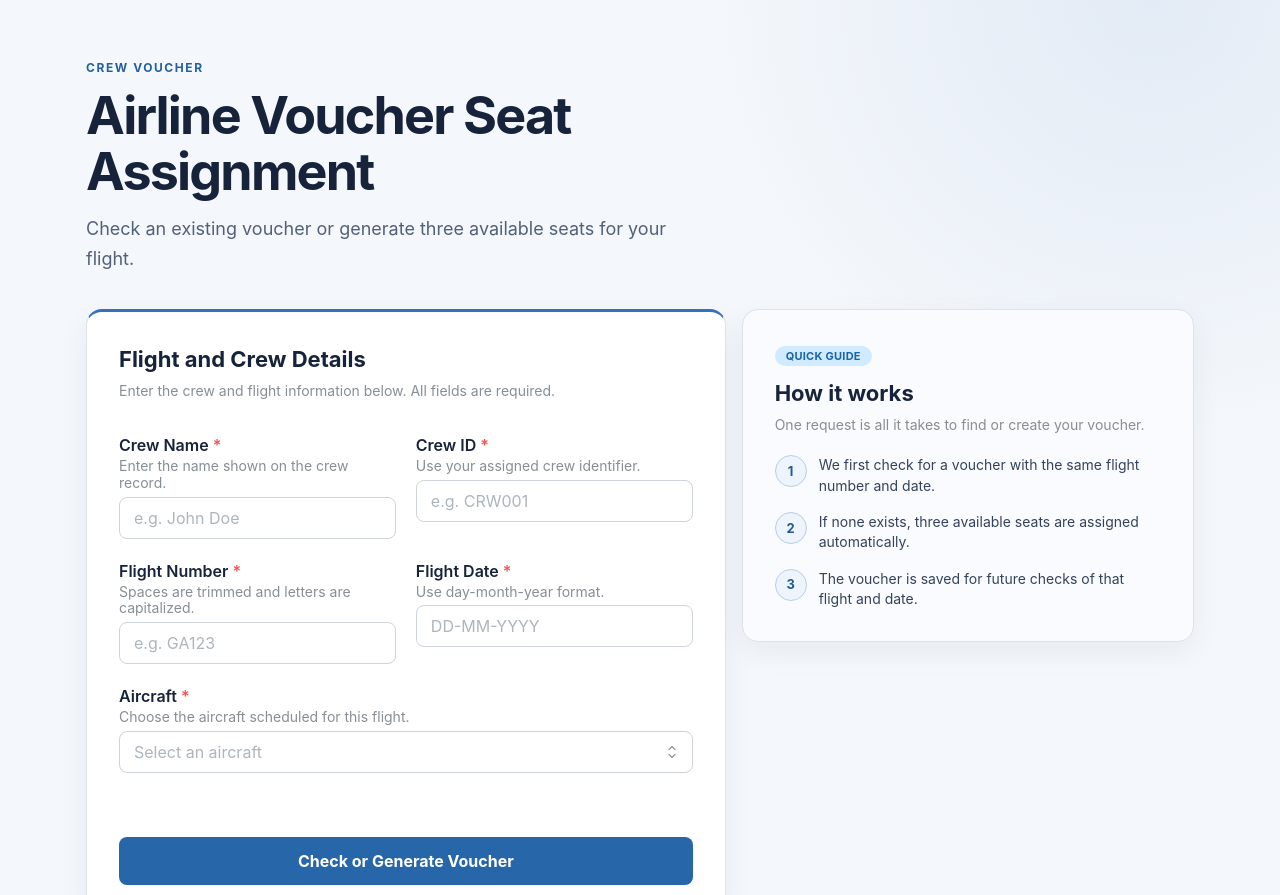
Test case: App › generates and displays a new voucher after an empty check
This screenshot has width=1280, height=895.
In the field labelled "Crew Name": (257,518) [119,497,396,539], type "Jane Doe"
In the field labelled "Crew ID": (554,501) [416,480,693,522], type "CRW001"
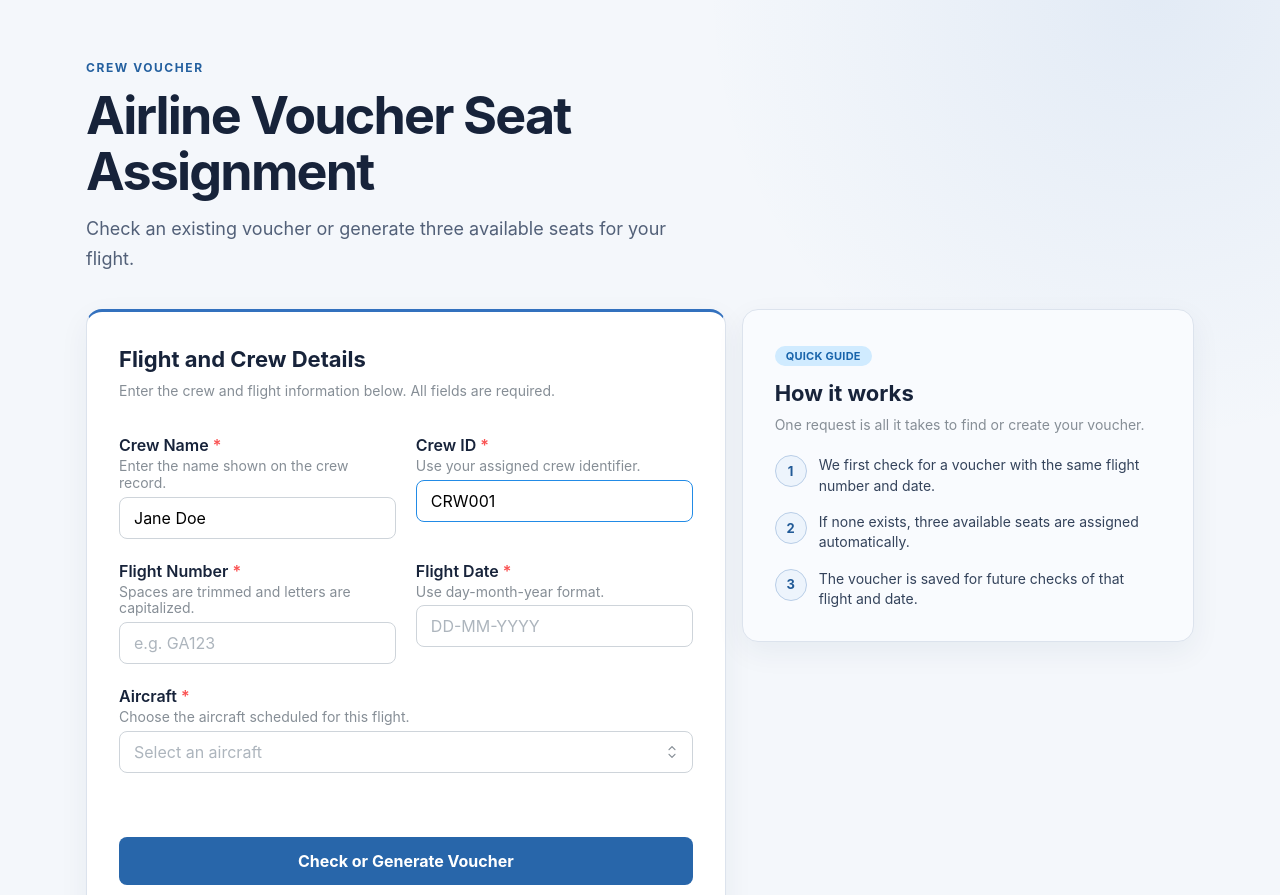
In the field labelled "Flight Number": (257,643) [119,622,396,664], type " ga123 "
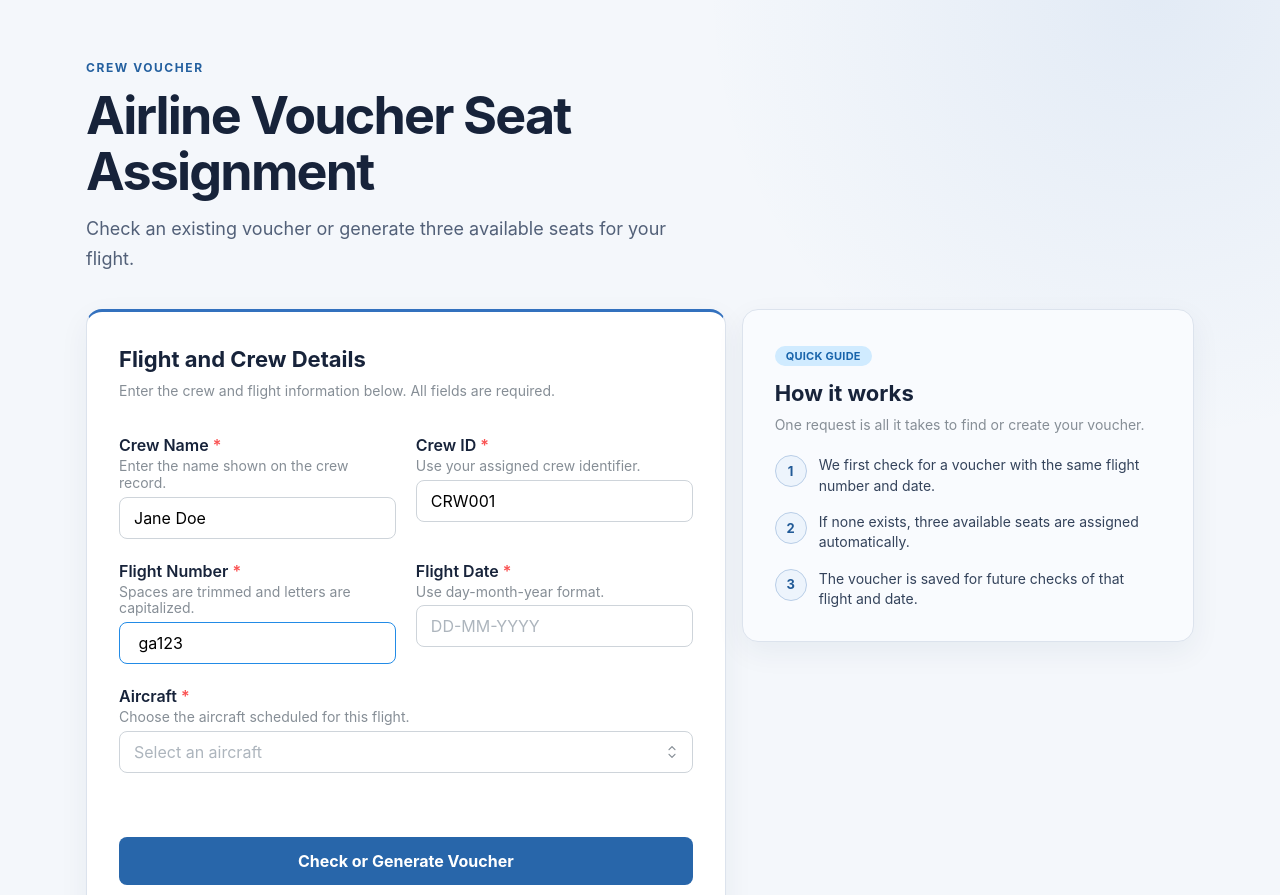
In the field labelled "Flight Date": (554,626) [416,605,693,647], type "05-08-2026"
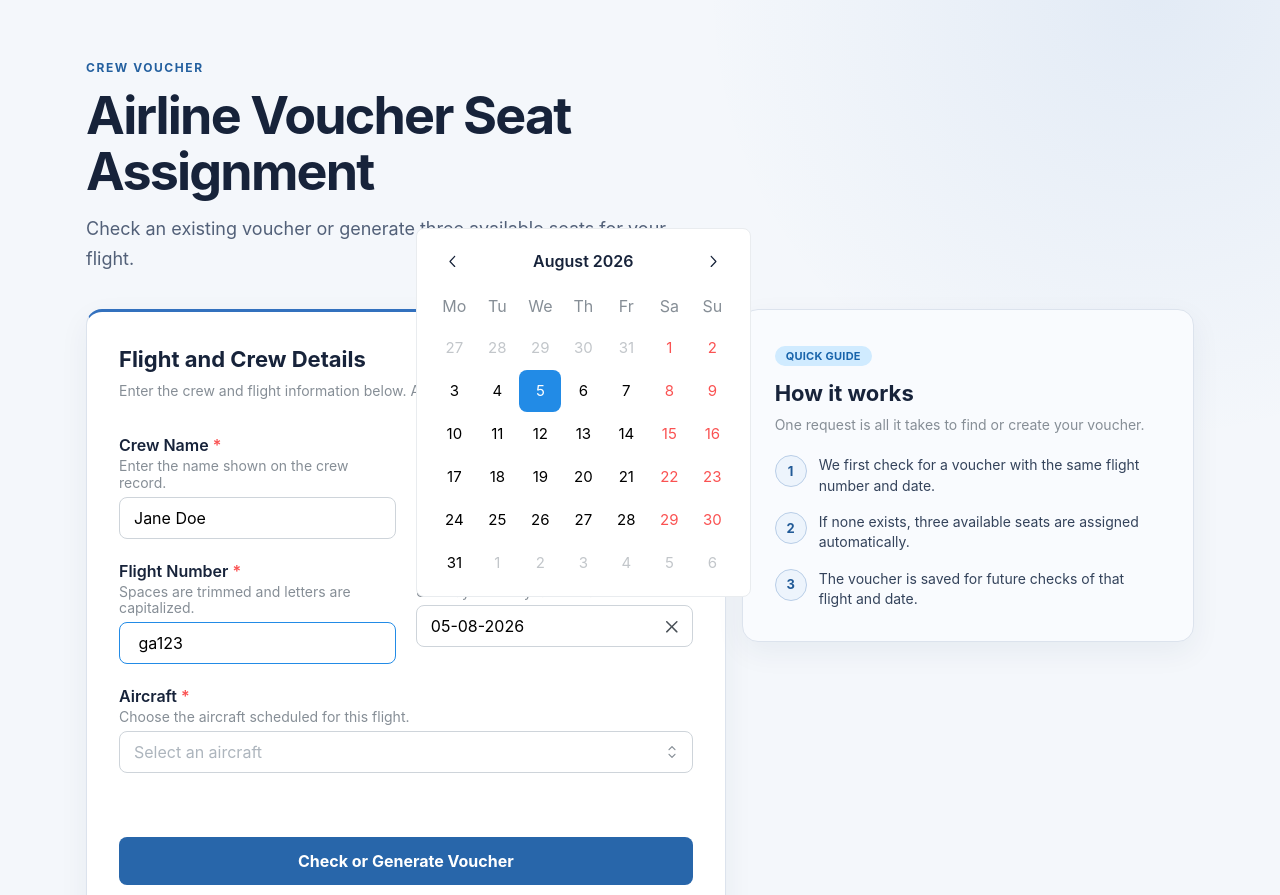
Click the dropdown labelled "Aircraft": (406,752) [119,731,693,773]
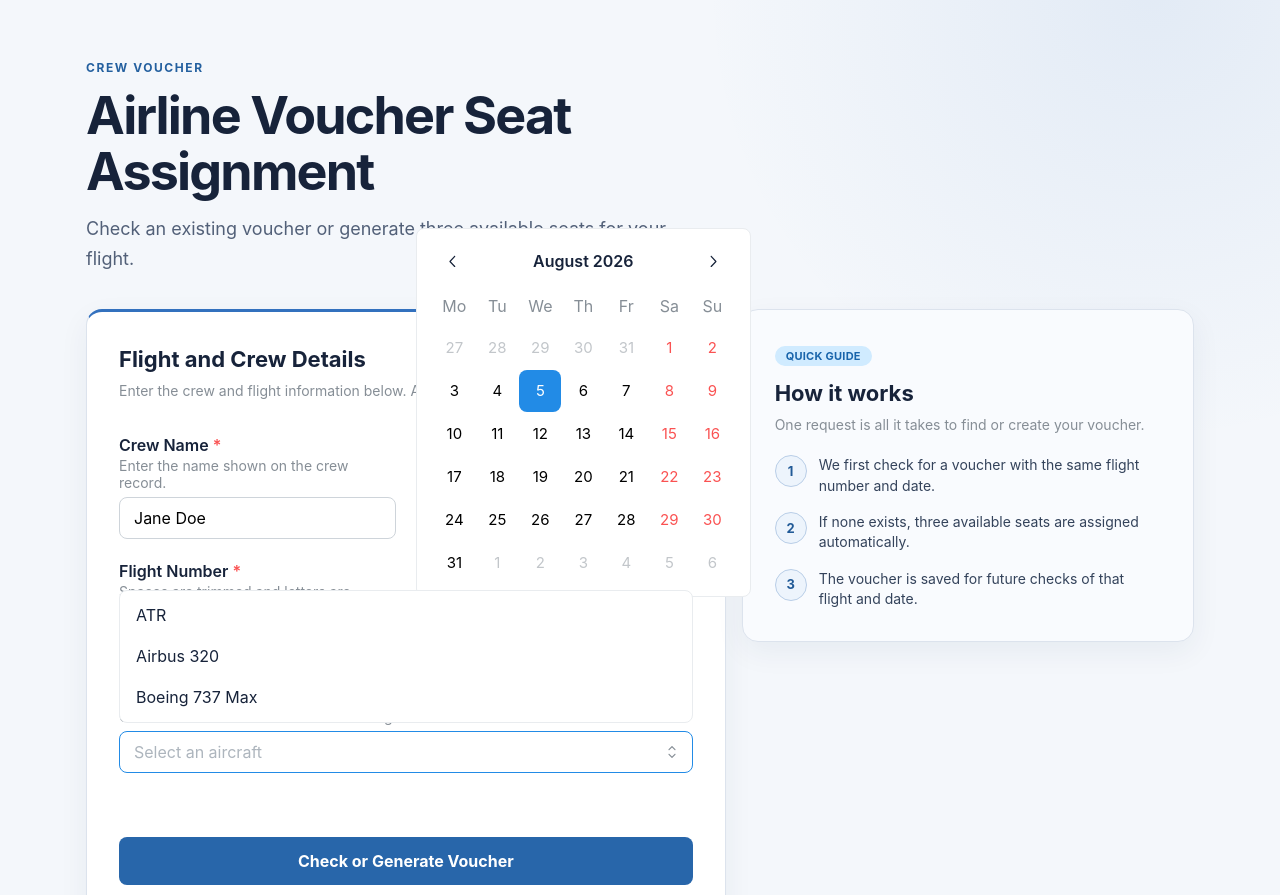
Click the option "ATR": (151,615) [136,605,166,625]
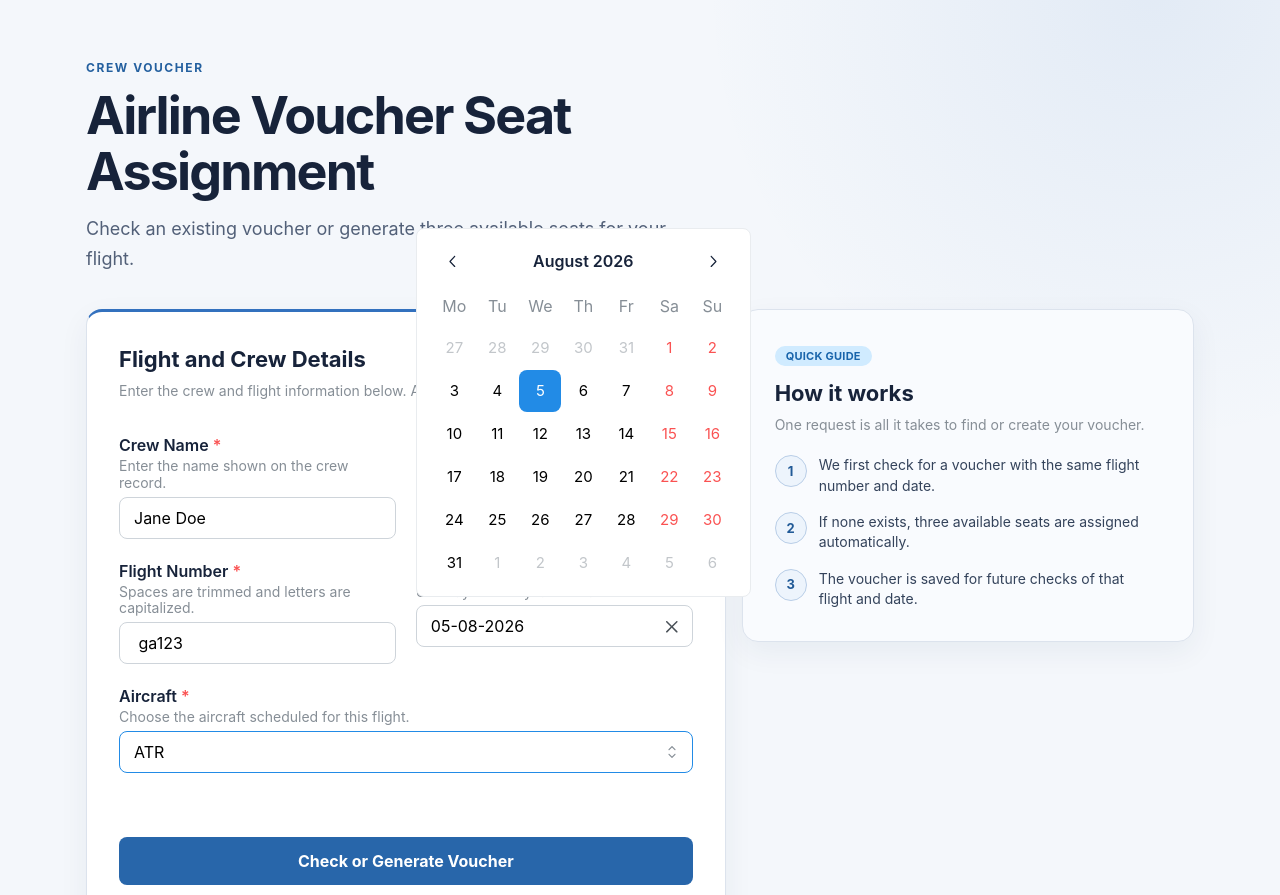
Click the button "Check or Generate Voucher": (406,861) [119,837,693,885]
(page scrolled)
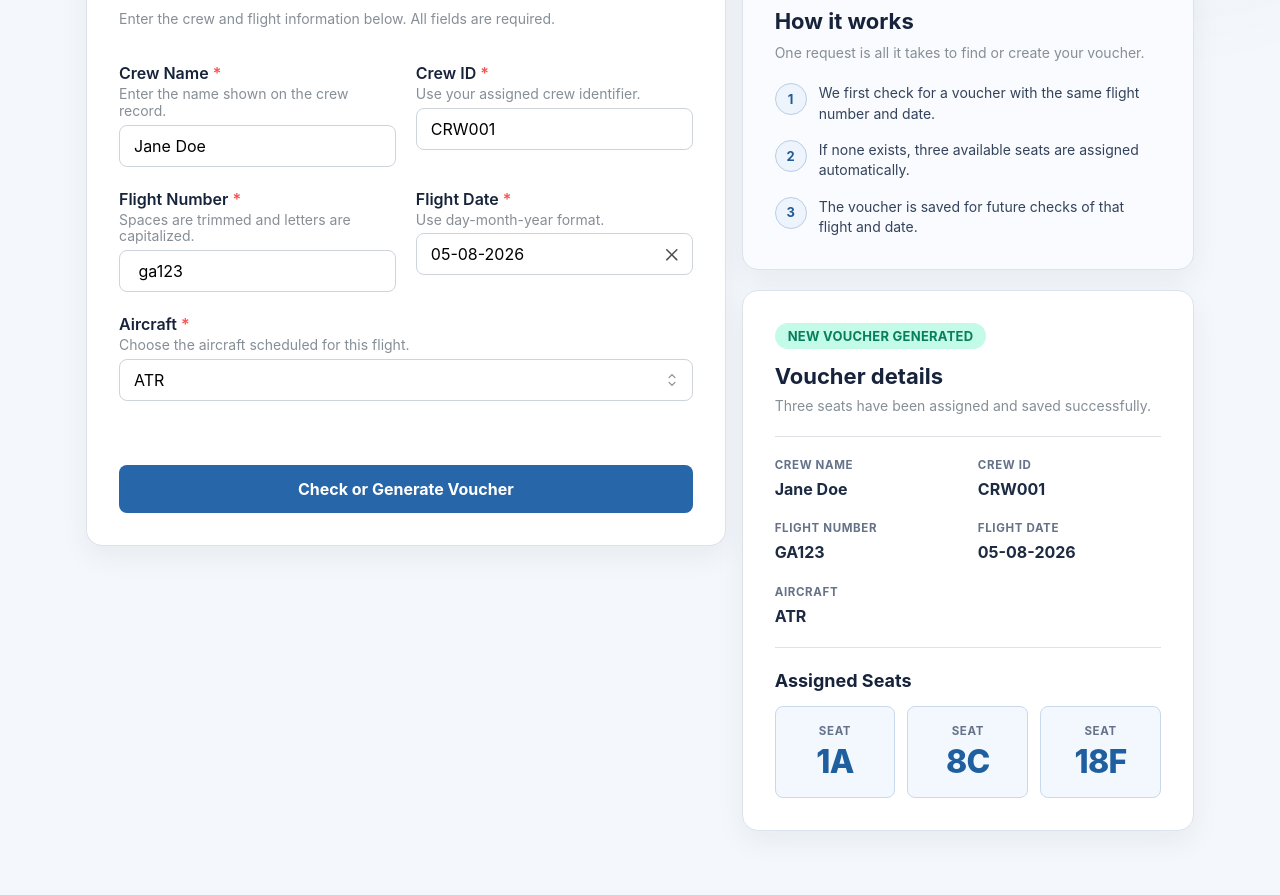
Result: the text "New voucher generated" is shown at [788,324,973,348]
Result: the text "Three seats have been assigned and saved successfully." is shown at [775,396,1161,416]
Result: the text "8C" is shown at [946,742,990,781]
